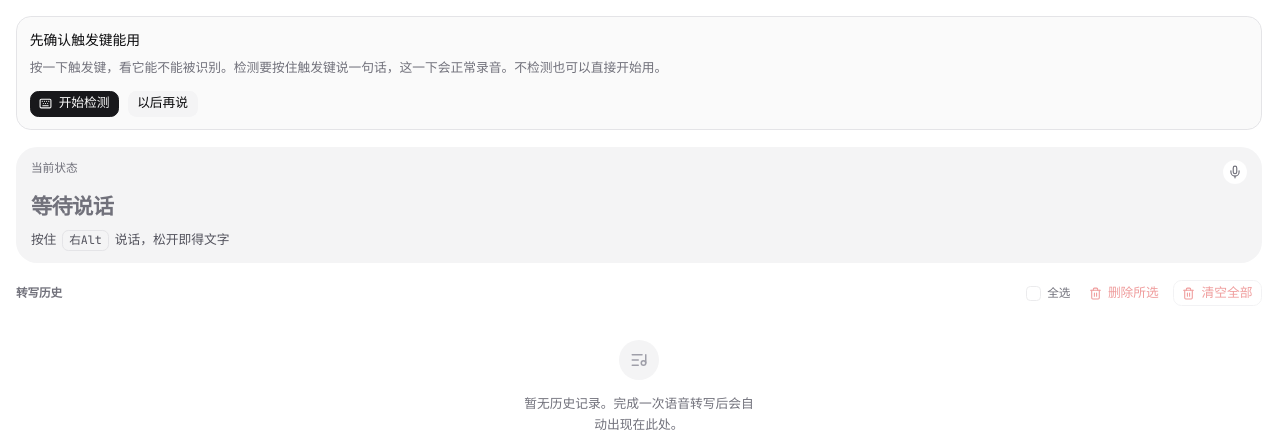
Home 触发键自检卡 › 收到就绪信号前停在准备中，收到后才提示按键
Click the button "开始检测": (74, 104) [30,91,119,117]
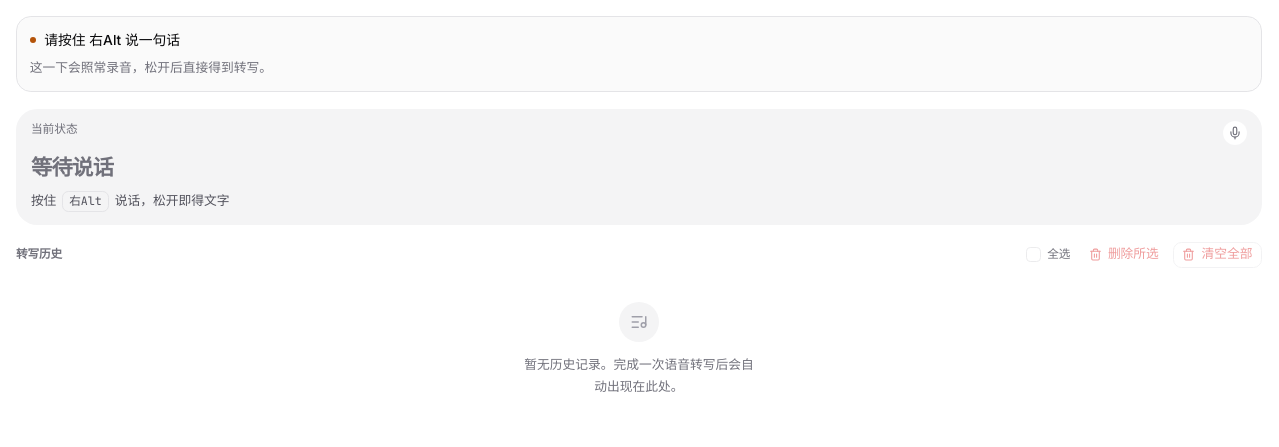
Expected: the text "请按住 右Alt 说一句话" is shown, [44,30,180,50]
